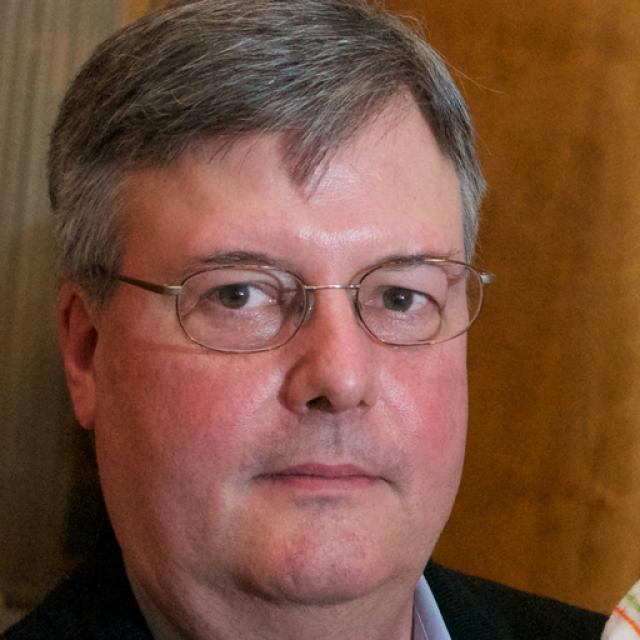neutral: (106, 78, 471, 606)
